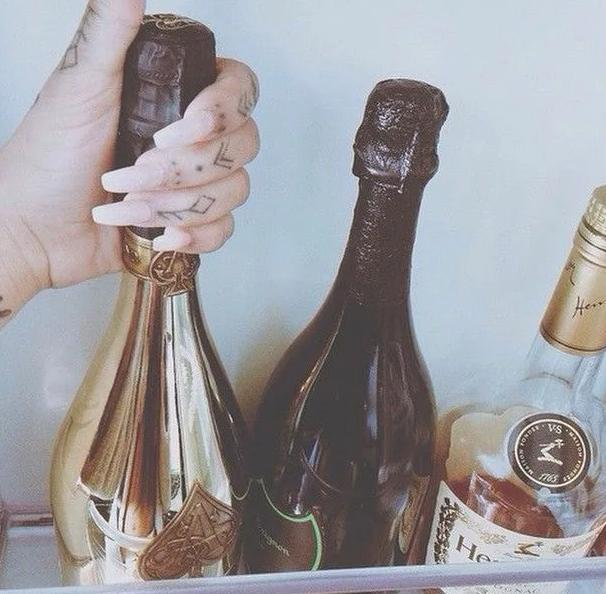wine bottle: (50, 13, 254, 594), (231, 76, 451, 594)
wine label: (138, 474, 243, 591), (236, 477, 320, 592)
